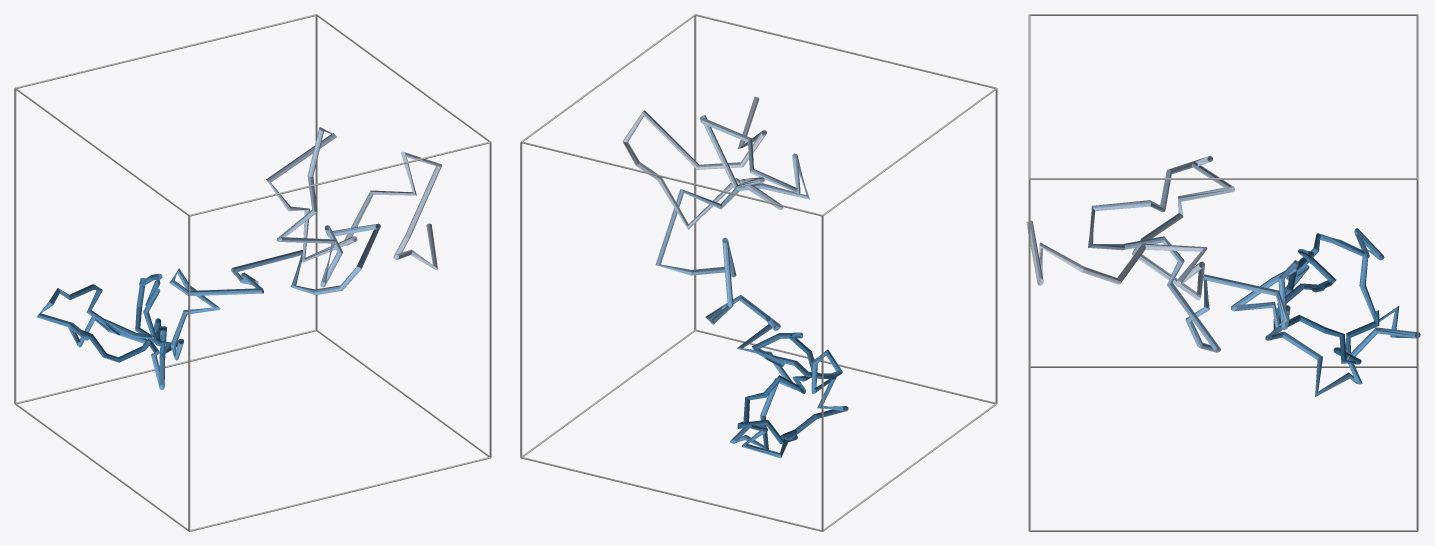
3 renders of one model, left to right at view 1: azimuth 30°, elevation 25°; view 2: azimuth 150°, elevation 25°; view 3: azimuth 270°, elevation 25°, orthographic. The views are drawn at different scales.
Parts seen in each view (by area): view 1: geometry_0, geometry_1; view 2: geometry_0, geometry_1; view 3: geometry_0, geometry_1.
Boxes of the visible parts, left/top/right/bottom form: geometry_0: left=36, top=127, right=441, bottom=390; geometry_1: left=14, top=14, right=491, bottom=531; geometry_0: left=622, top=96, right=848, bottom=458; geometry_1: left=520, top=14, right=997, bottom=531; geometry_0: left=1026, top=155, right=1420, bottom=396; geometry_1: left=1028, top=14, right=1418, bottom=531.
Size of the model in its own units: 0.3044 by 0.3014 by 0.3047.
